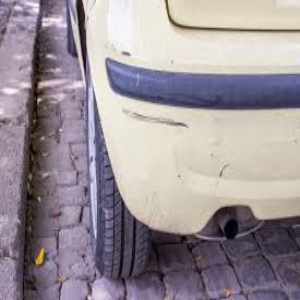bumper_scratch: (111, 105, 242, 180)
